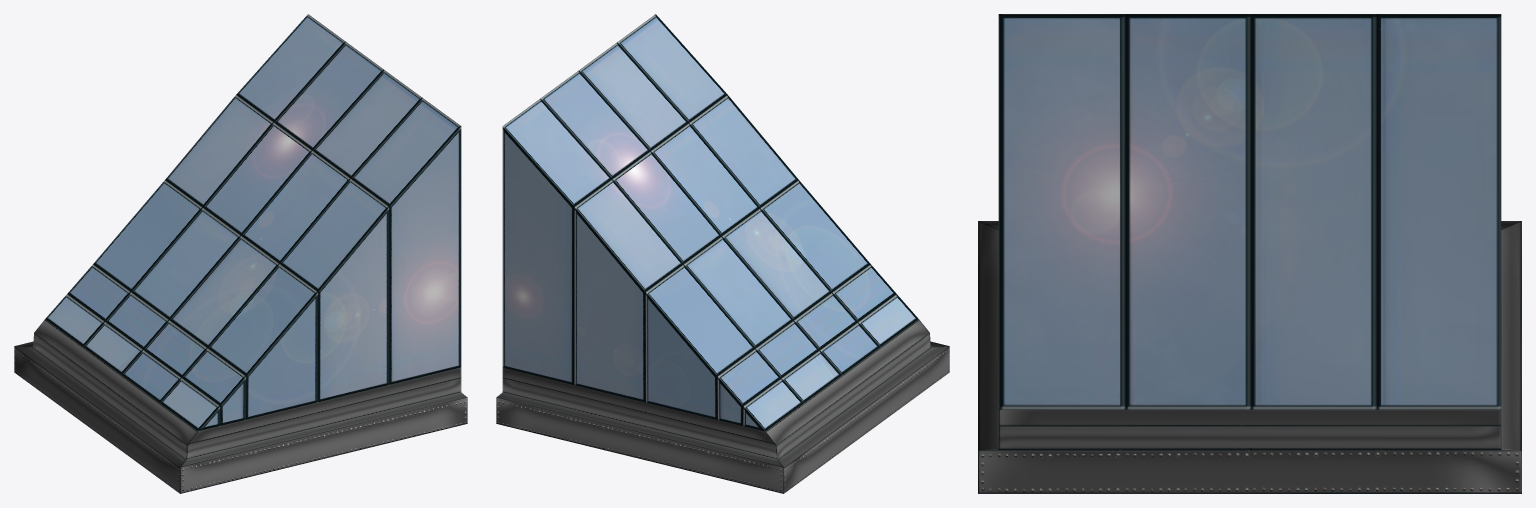
Rendered from Building_Top_02.dae.
The picture shows the model from 3 angles, left to right: view 1: azimuth 30°, elevation 25°; view 2: azimuth 150°, elevation 25°; view 3: azimuth 270°, elevation 25°; orthographic projection. The views are drawn at different scales.
Parts seen in each view (by area): view 1: Building_Top_02; view 2: Building_Top_02; view 3: Building_Top_02.
Boxes of the visible parts, bbox=[...] form: Building_Top_02: bbox=[14, 14, 467, 493]; Building_Top_02: bbox=[496, 14, 949, 493]; Building_Top_02: bbox=[978, 14, 1521, 493].
Size of the model in its own units: 45.05 by 43.86 by 45.04.
